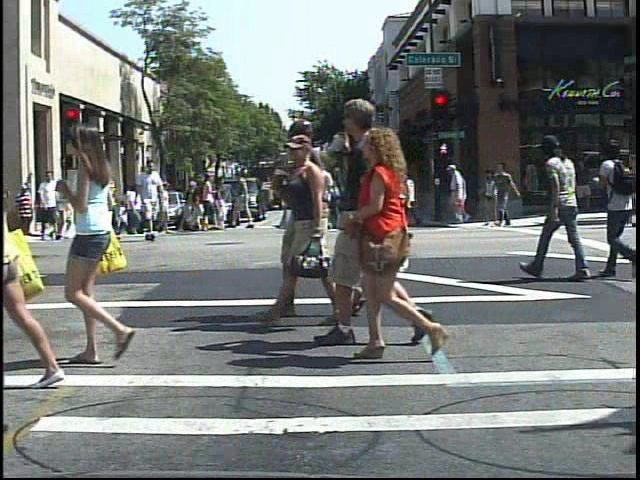person: (309, 88, 432, 347), (53, 115, 151, 375), (350, 117, 454, 361), (0, 133, 66, 393), (535, 129, 588, 281), (592, 133, 638, 286), (134, 160, 167, 243), (92, 162, 123, 241), (36, 167, 66, 245), (448, 162, 471, 226), (14, 181, 36, 242), (92, 182, 112, 220)
